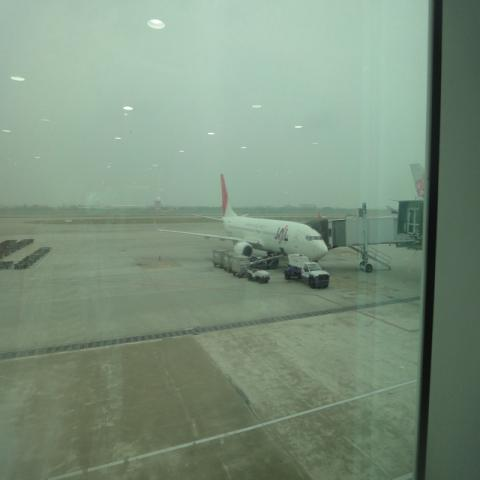truck: (284, 254, 329, 289)
